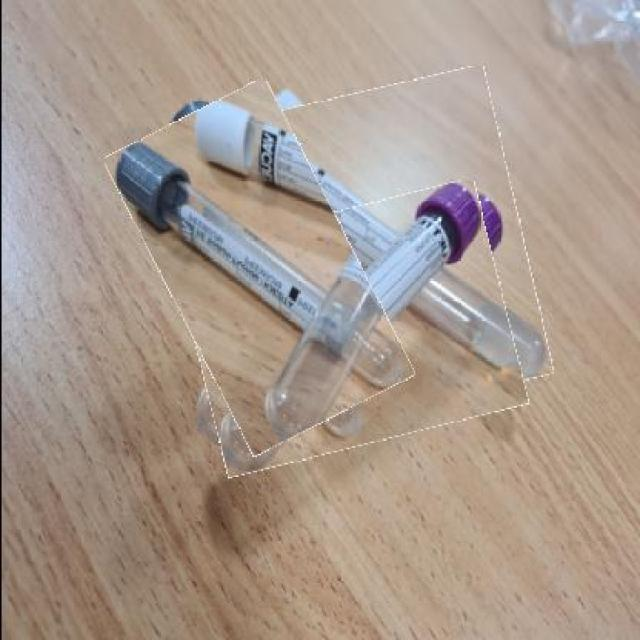Experimental-tube: (238, 76, 536, 419), (184, 196, 516, 462), (134, 88, 380, 446)
